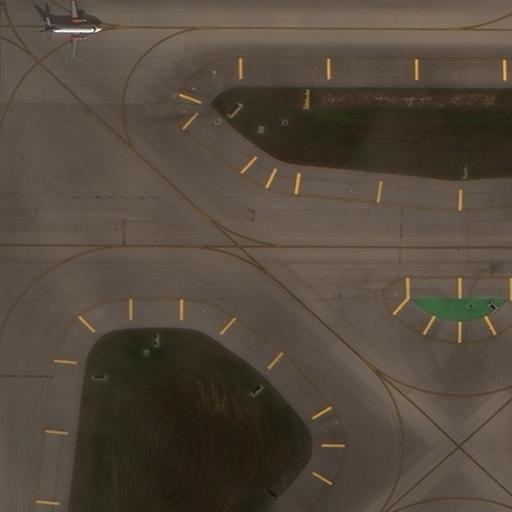Medium Civil Transport: (44, 0, 103, 59)
